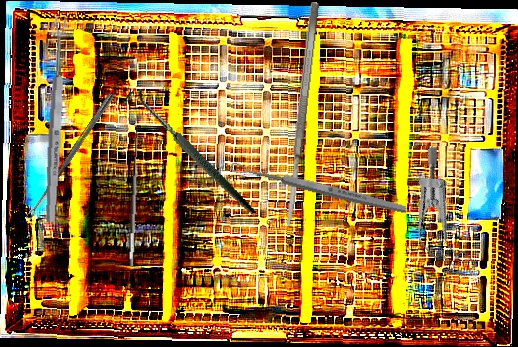Hook Surgical: (119, 67, 257, 241), (116, 124, 143, 266)
Spatula Surgical: (281, 1, 322, 227)
Speculum: (376, 144, 514, 290)
Surgical Spoon: (24, 90, 116, 221), (230, 160, 408, 216), (43, 15, 69, 223)
